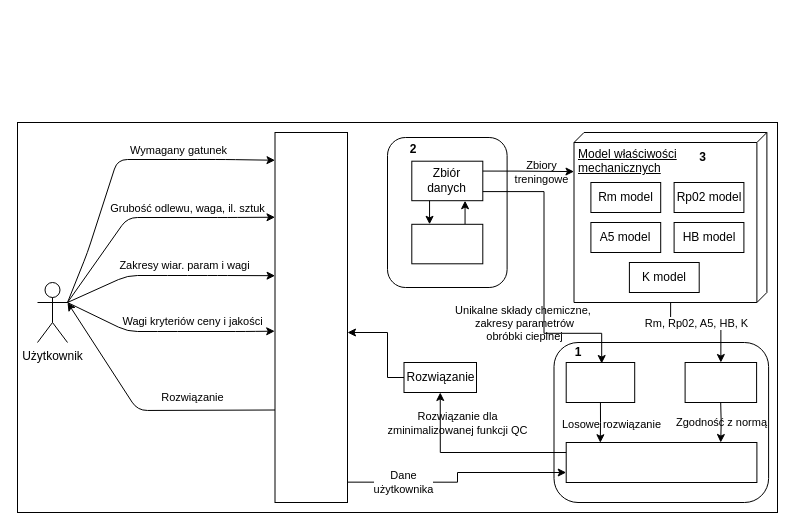
The diagram is 795 pixels wide and 530 high, and some of its shapes have lost their labels. Each missing label, with the centre of its shape:
Interfejs użytkownika: the point at 311,317
Ograniczenia: the point at 720,382
Przeszukiwanie metaheurystyczne: the point at 661,462
Uzupełnianie danych: the point at 447,243
Zbiór możliwych rozwiązań: the point at 600,382
